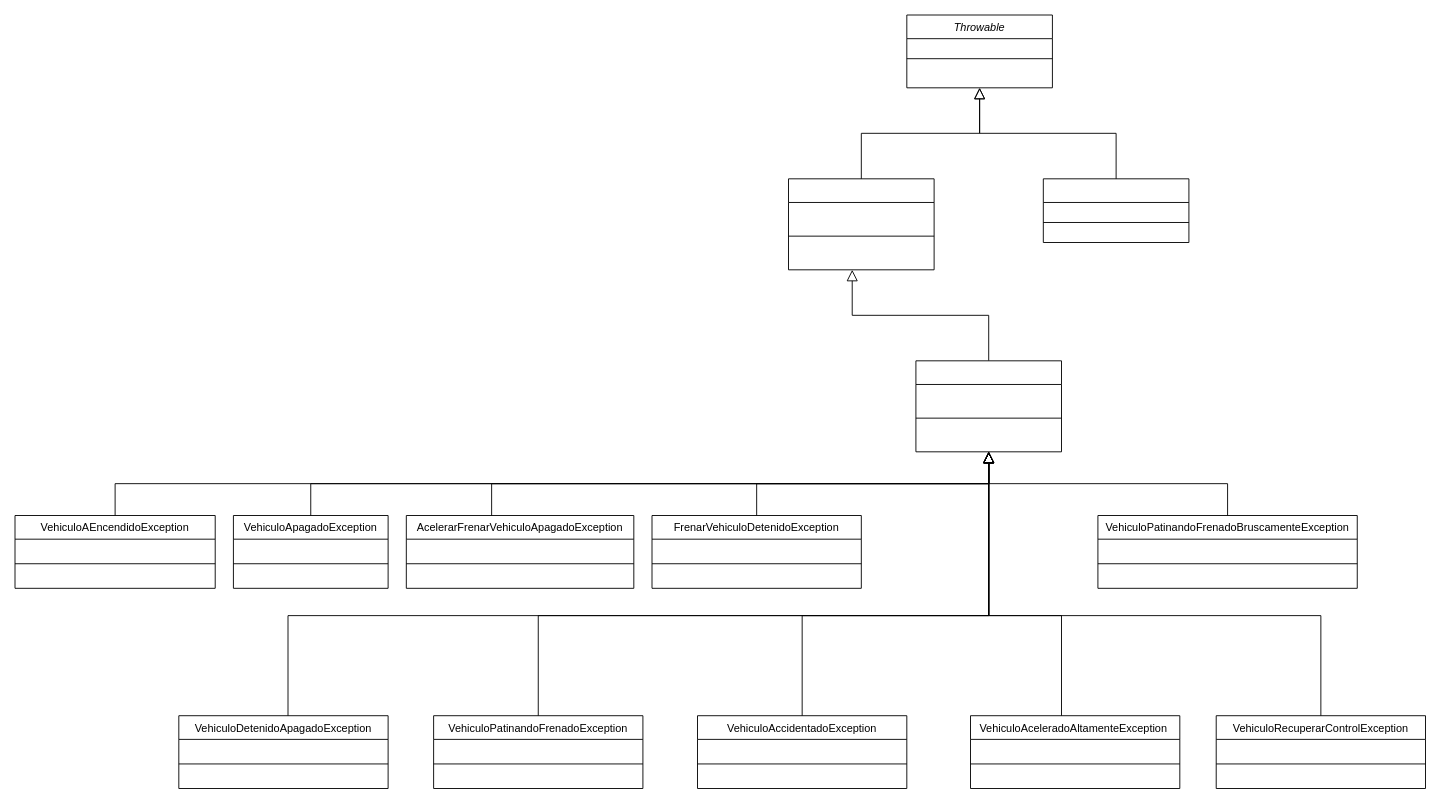
The diagram is 1441 pixels wide and 804 high, and some of its shapes have lost their labels. The centre of each missing label's shape, as x and y in pixels:
Error: the point at 1115,210
Exception: the point at 861,224
RunTimeException: the point at 988,406
